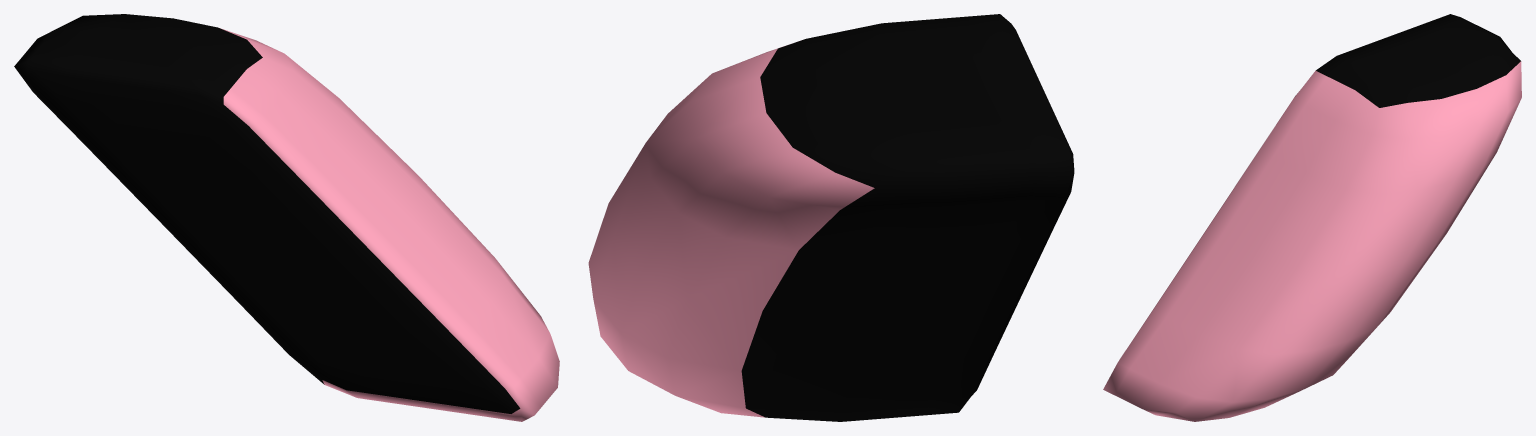
3 views of the same model, side by side, from view 1: azimuth 30°, elevation 25°; view 2: azimuth 150°, elevation 25°; view 3: azimuth 270°, elevation 25° (orthographic). The views are drawn at different scales.
Parts seen in each view (by area): view 1: Box1219; view 2: Box1219; view 3: Box1219.
Boxes of the visible parts, x1,y1,x2,y2 form: Box1219: (14,14,559,421); Box1219: (588,14,1074,421); Box1219: (1103,14,1521,421).
Size of the model in its own units: 0.0508 by 0.0357 by 0.0536.
